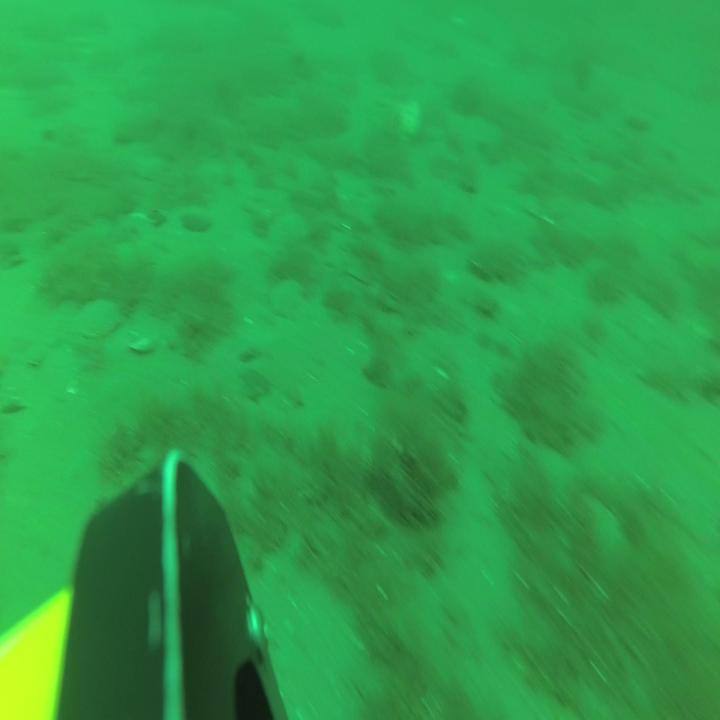scallop: (80, 296, 121, 343), (272, 277, 306, 319), (397, 100, 421, 144)
